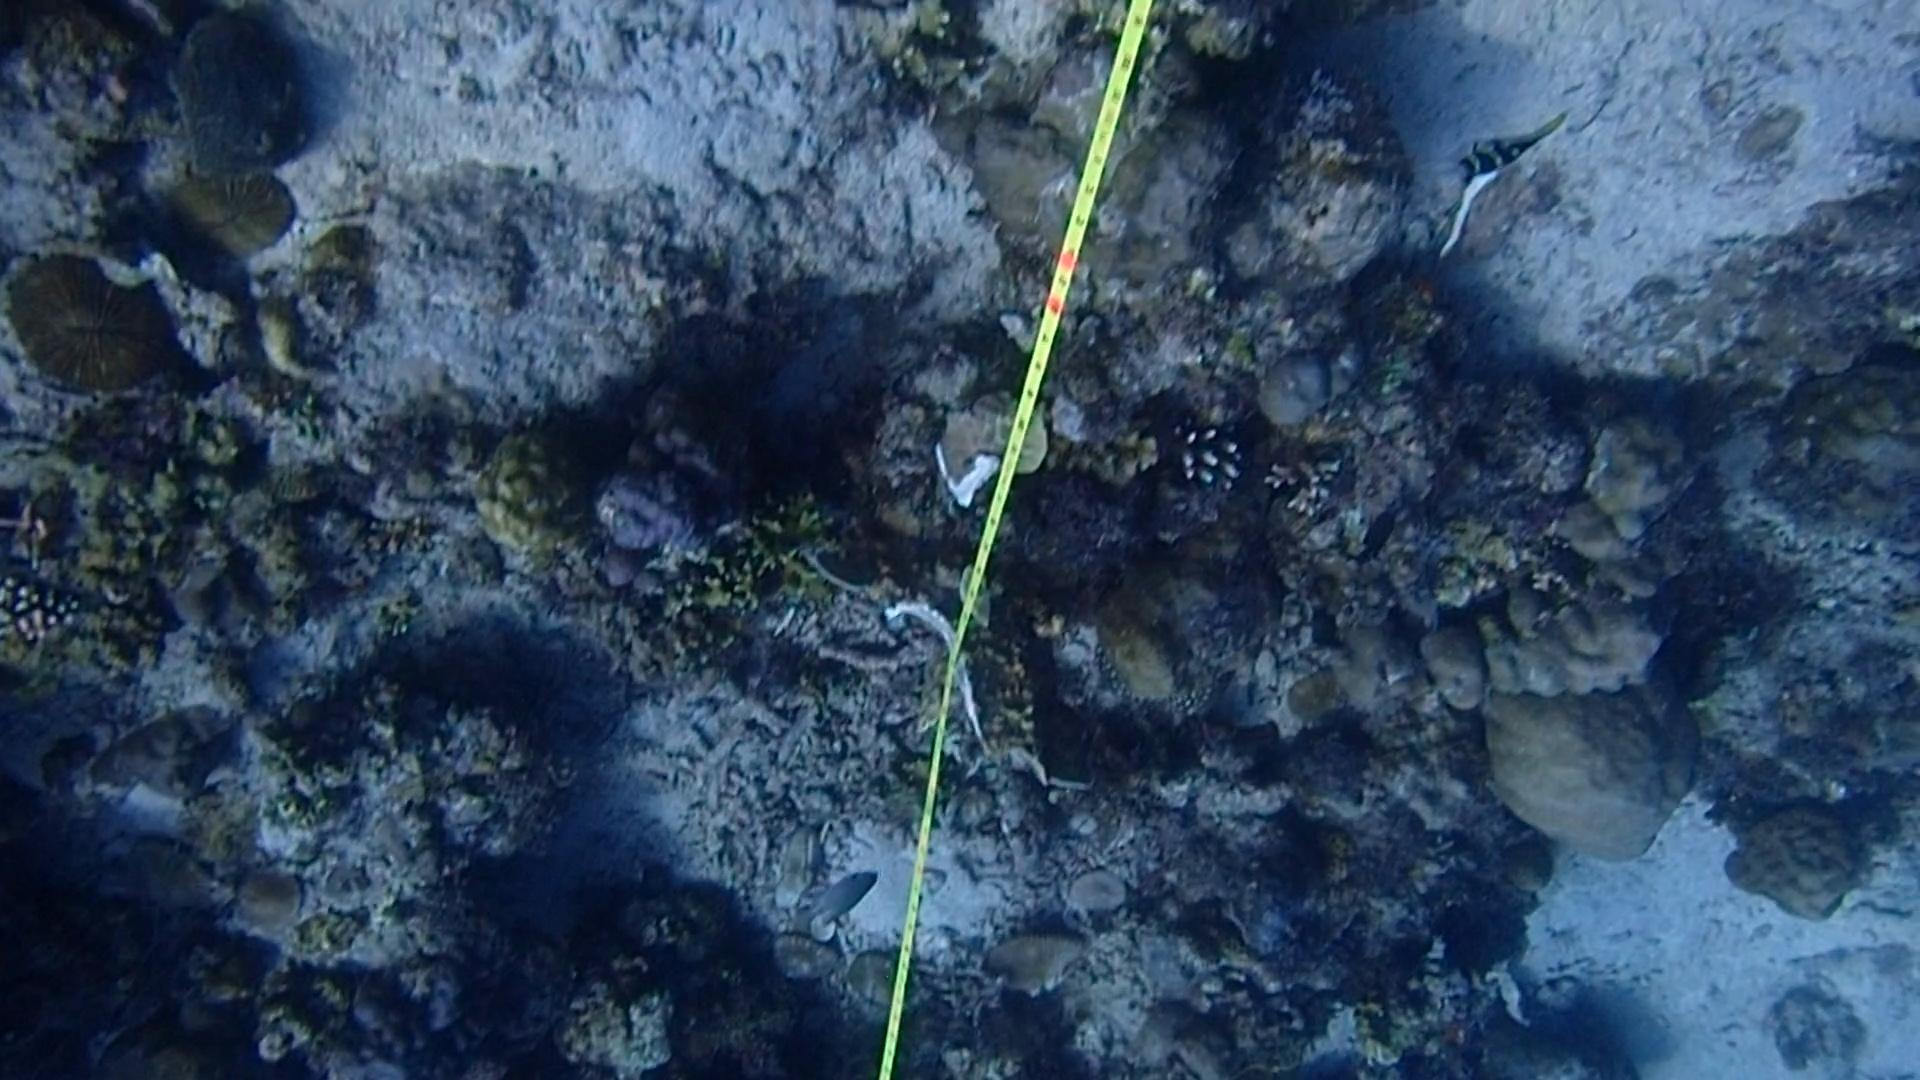Striped Fish: (1440, 108, 1575, 195)
